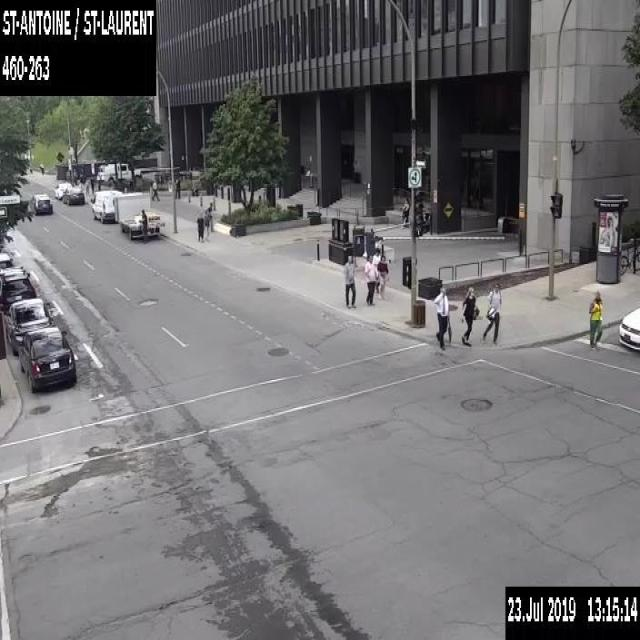pedestrian: (431, 286, 451, 351), (481, 281, 501, 343), (587, 289, 604, 351), (460, 285, 475, 344), (362, 253, 377, 306), (344, 253, 356, 308), (377, 255, 388, 297), (371, 246, 380, 292), (138, 208, 148, 243), (400, 196, 409, 225), (196, 211, 204, 242), (207, 201, 214, 231), (150, 179, 159, 201), (203, 208, 210, 235), (89, 173, 94, 193), (85, 179, 88, 193), (40, 160, 43, 174)
vehicle: (17, 324, 76, 392), (91, 188, 160, 239), (3, 297, 54, 355), (0, 273, 35, 311), (616, 304, 639, 351), (96, 162, 141, 184), (32, 193, 52, 215), (62, 186, 84, 204), (0, 264, 30, 275), (54, 182, 72, 198), (0, 250, 14, 266)
